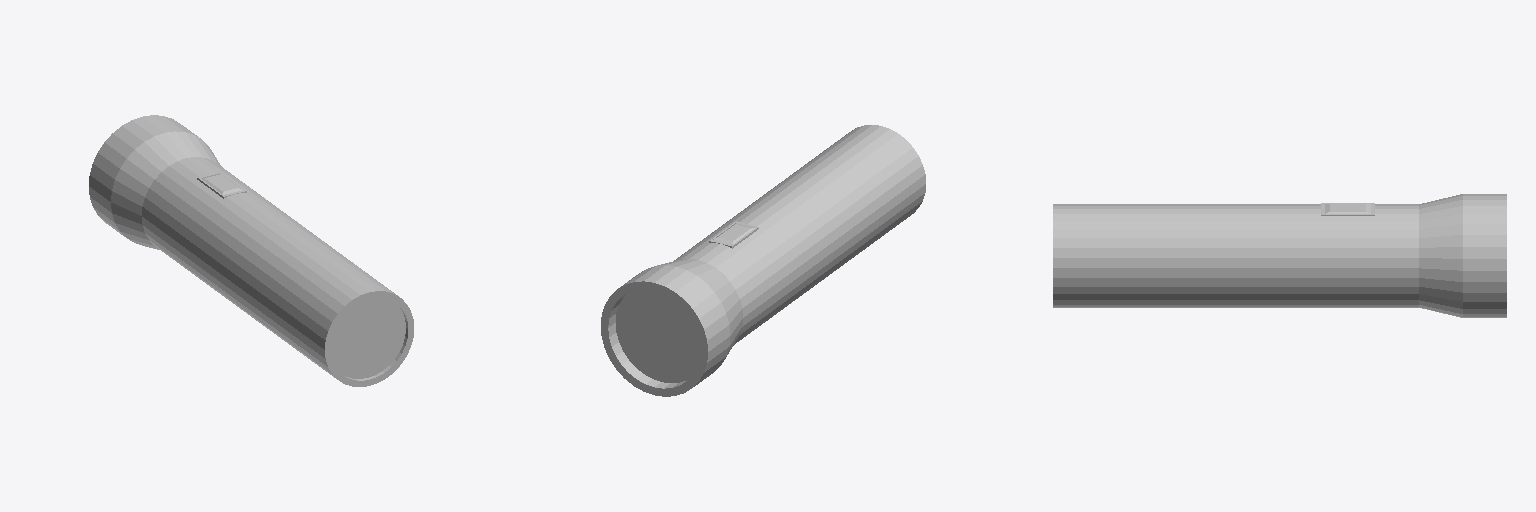
Rendered from torch.obj.
3 views of the same model, side by side, from view 1: azimuth 30°, elevation 25°; view 2: azimuth 150°, elevation 25°; view 3: azimuth 270°, elevation 25° (orthographic).
Parts seen in each view (by area): view 1: Cylinder.001, Cylinder, Cube_Cube.001; view 2: Cylinder.001, Cylinder, Cube_Cube.001; view 3: Cylinder.001, Cylinder, Cube_Cube.001.
Part boxes in pixels (bbox=[...]): Cylinder.001: bbox=[89, 115, 375, 363]; Cylinder: bbox=[303, 275, 413, 386]; Cube_Cube.001: bbox=[197, 172, 246, 198]; Cylinder.001: bbox=[601, 140, 904, 396]; Cylinder: bbox=[831, 125, 925, 227]; Cube_Cube.001: bbox=[709, 221, 758, 248]; Cylinder.001: bbox=[1095, 194, 1506, 317]; Cylinder: bbox=[1053, 204, 1095, 307]; Cube_Cube.001: bbox=[1321, 203, 1374, 215].
Bounding box in the file's own units: 2.4 × 2.4 × 8.77.